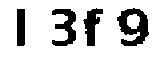3: (46, 3, 78, 51)
9: (112, 4, 152, 52)
f: (82, 6, 105, 52)
l: (9, 4, 31, 48)
